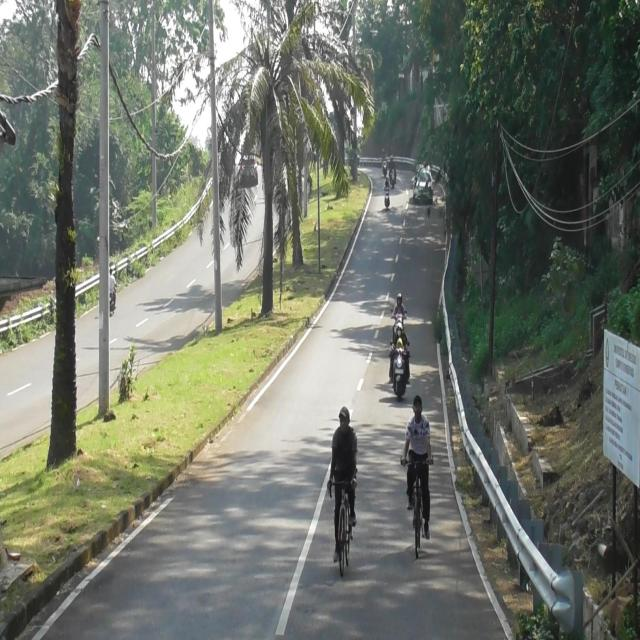motorcycle: (389, 340, 412, 398), (382, 187, 392, 210), (390, 168, 396, 189), (382, 159, 387, 174)
person: (328, 400, 358, 492), (401, 397, 432, 467), (392, 325, 408, 355), (393, 290, 406, 316), (396, 340, 405, 356), (389, 156, 396, 170), (384, 177, 390, 192), (381, 150, 388, 162)
rider_region: (388, 321, 412, 398), (388, 154, 397, 188), (383, 174, 391, 209), (381, 150, 388, 176)
